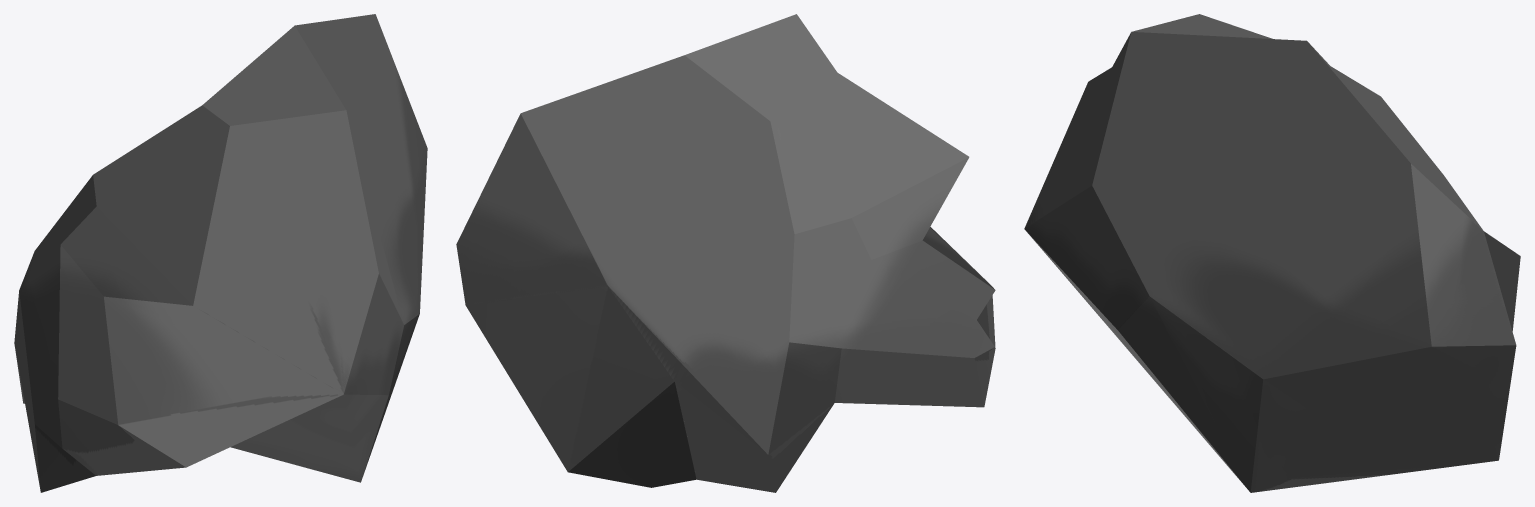
The model's file is small sten,_,.fbx.
3 views of the same model, side by side, from view 1: azimuth 30°, elevation 25°; view 2: azimuth 150°, elevation 25°; view 3: azimuth 270°, elevation 25° (orthographic). The views are drawn at different scales.
Parts seen in each view (by area): view 1: Cube; view 2: Cube; view 3: Cube.
Boxes of the visible parts, x1,y1,x2,y2 form: Cube: (14,14,427,492); Cube: (456,14,995,492); Cube: (1024,14,1520,492).
Bounding box in the file's own units: 1.77 × 1.52 × 1.57.
1 material, 1 textured.
